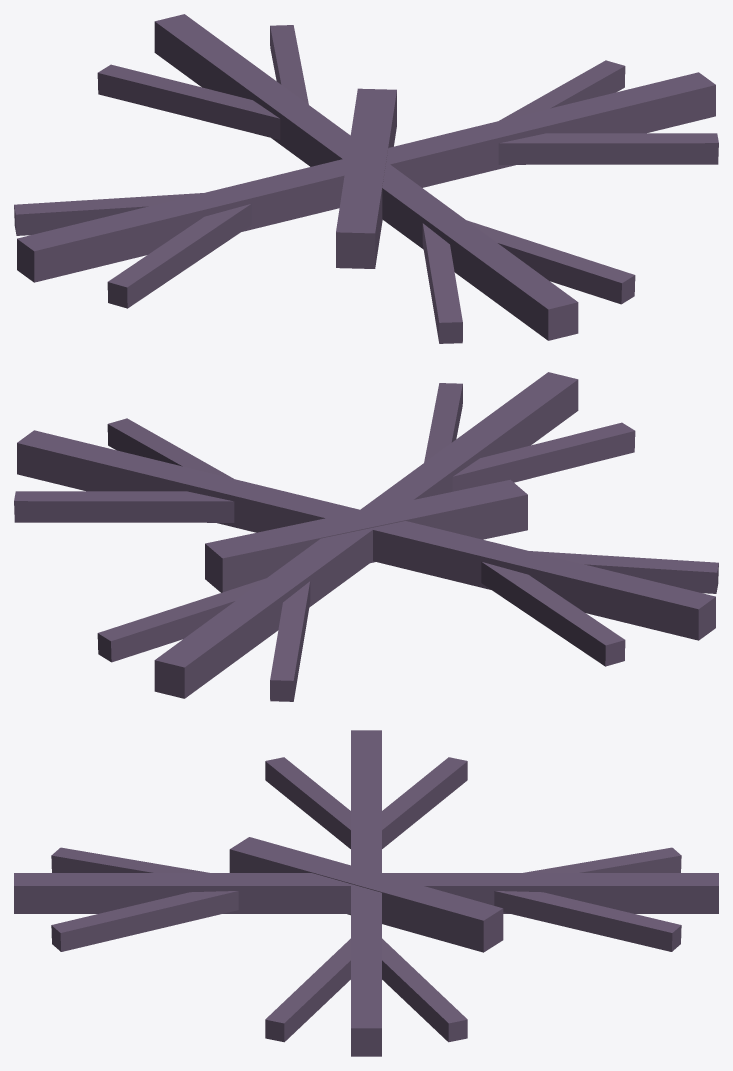
Rendered from CMU3DHiveXenoStickyResinWeak.glb.
The picture shows the model from 3 angles, top to bottom: view 1: azimuth 30°, elevation 25°; view 2: azimuth 150°, elevation 25°; view 3: azimuth 270°, elevation 25°; orthographic projection. The views are drawn at different scales.
Parts seen in each view (by area): view 1: tile-joining root (×4), branching ground filament (×8), central ground rhizome; view 2: tile-joining root (×4), branching ground filament (×8), central ground rhizome; view 3: tile-joining root (×4), branching ground filament (×8), central ground rhizome.
Boxes of the visible parts, box(x1,y1,x2,y2) form: tile-joining root (×4): box(17, 14, 715, 340); branching ground filament (×8): box(14, 25, 718, 343); central ground rhizome: box(336, 88, 396, 268); tile-joining root (×4): box(17, 372, 715, 698); branching ground filament (×8): box(14, 383, 718, 701); central ground rhizome: box(205, 479, 527, 592); tile-joining root (×4): box(14, 730, 718, 1056); branching ground filament (×8): box(51, 757, 681, 1042); central ground rhizome: box(229, 837, 503, 952).
Bounding box in the file's own units: 1 × 0.05 × 1.
